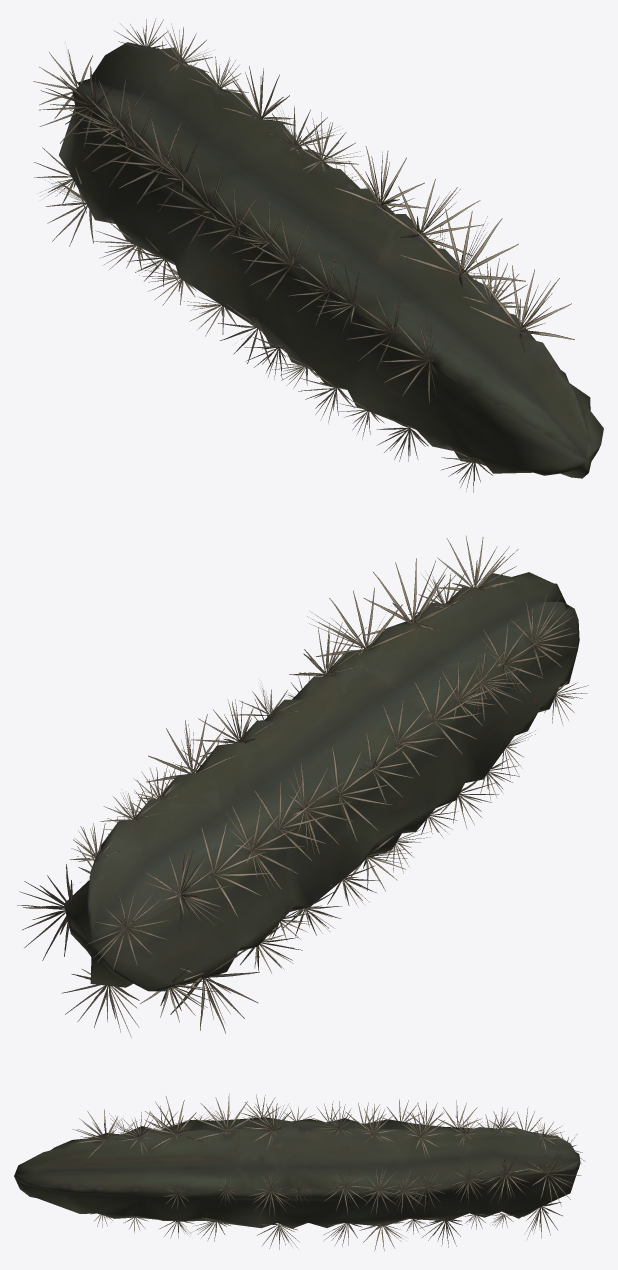
The model's file is DE_Cactus_Part_01.fbx.
3 renders of one model, top to bottom at view 1: azimuth 30°, elevation 25°; view 2: azimuth 150°, elevation 25°; view 3: azimuth 270°, elevation 25°, orthographic. The views are drawn at different scales.
Parts seen in each view (by area): view 1: DE_Cactus_Part_01, DE_Cactus_Needles_Part_01; view 2: DE_Cactus_Part_01, DE_Cactus_Needles_Part_01; view 3: DE_Cactus_Part_01, DE_Cactus_Needles_Part_01.
Boxes of the visible parts, x1,y1,x2,y2 form: DE_Cactus_Part_01: (59, 42, 603, 478); DE_Cactus_Needles_Part_01: (33, 18, 574, 492); DE_Cactus_Part_01: (64, 572, 579, 991); DE_Cactus_Needles_Part_01: (17, 536, 588, 1037); DE_Cactus_Part_01: (14, 1117, 580, 1228); DE_Cactus_Needles_Part_01: (72, 1093, 585, 1250).
Bounding box in the file's own units: 0.6194 × 0.6506 × 2.19.
